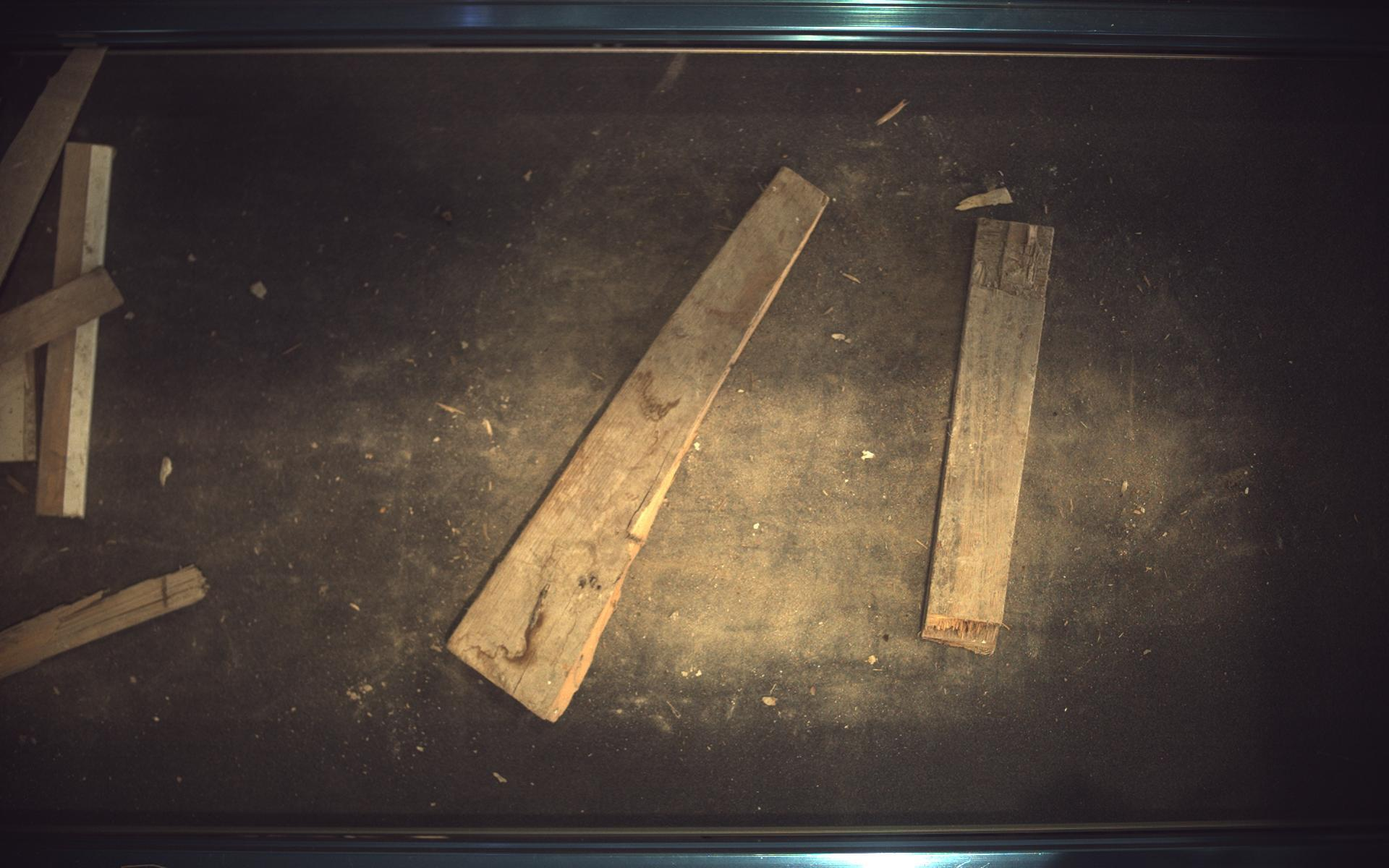wood: (448, 166, 830, 723), (923, 218, 1057, 655)
